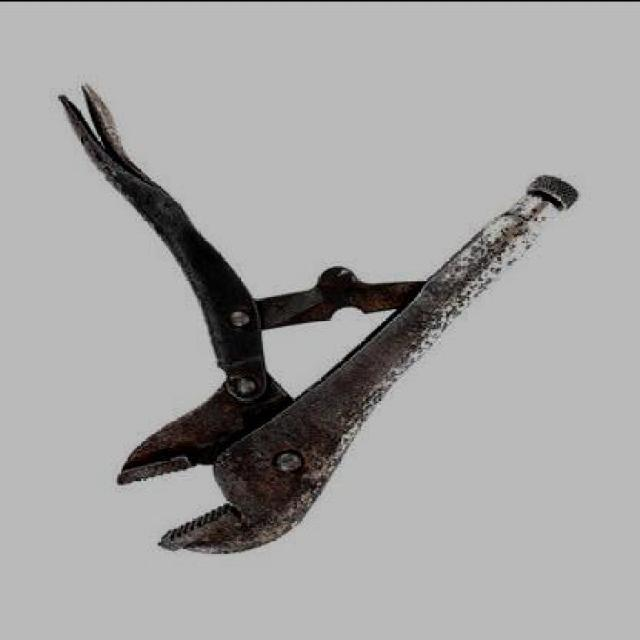pliers: (54, 79, 582, 552)
